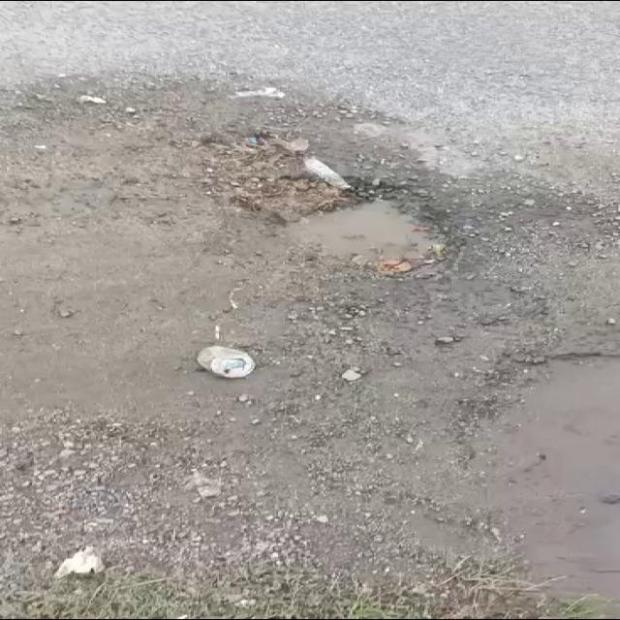lubang: (473, 337, 619, 616), (233, 172, 456, 273), (202, 137, 348, 192)
